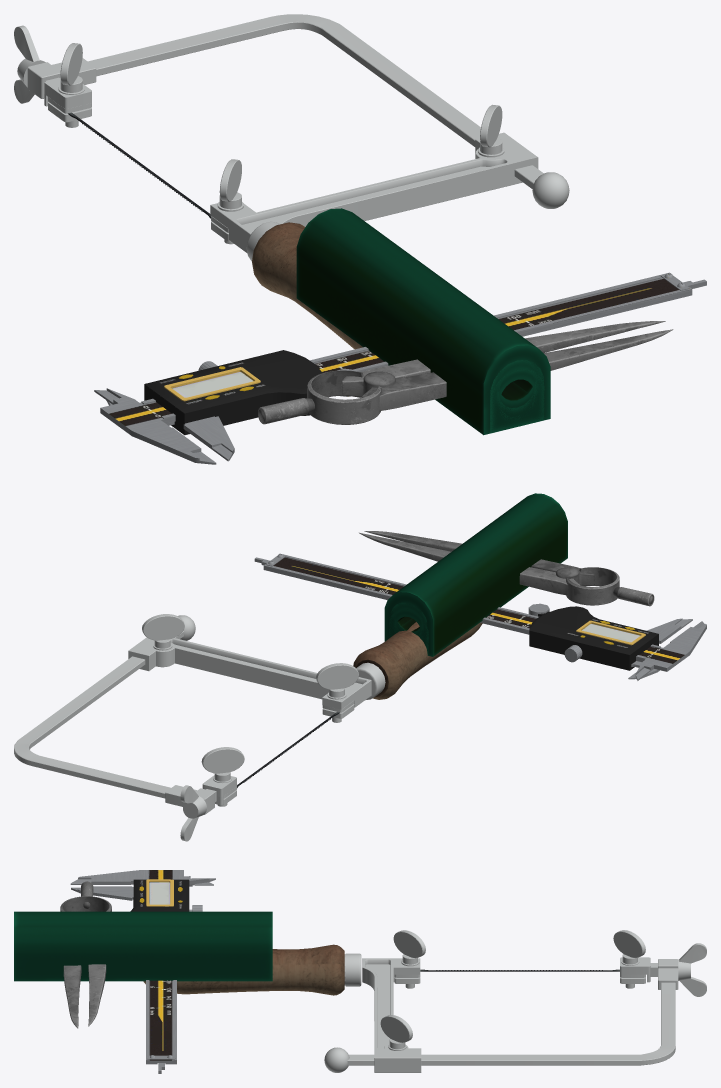
3 renders of one model, top to bottom at view 1: azimuth 30°, elevation 25°; view 2: azimuth 150°, elevation 25°; view 3: azimuth 270°, elevation 25°, orthographic. The views are drawn at different scales.
Visible parts, largest first — view 1: 201_MuBingJuZi, 201_JieZhiLa_T200, 201_YuanGui, YouBiaoKaChi_001, YouBiaoKaChi_002, 201_JieZhiLa_T100, 201_JieZhiLa_T150; view 2: 201_MuBingJuZi, 201_JieZhiLa_T200, YouBiaoKaChi_002, YouBiaoKaChi_001, 201_YuanGui, 201_JieZhiLa_T150; view 3: 201_MuBingJuZi, 201_JieZhiLa_T200, YouBiaoKaChi_001, YouBiaoKaChi_002, 201_YuanGui.
Part boxes in pixels (x1=…): 201_MuBingJuZi: x1=14, y1=14, x2=569, y2=349; 201_JieZhiLa_T200: x1=296, y1=208, x2=550, y2=435; 201_YuanGui: x1=258, y1=321, x2=673, y2=424; YouBiaoKaChi_001: x1=94, y1=272, x2=692, y2=464; YouBiaoKaChi_002: x1=106, y1=279, x2=706, y2=461; 201_JieZhiLa_T100: x1=490, y1=360, x2=543, y2=433; 201_JieZhiLa_T150: x1=490, y1=368, x2=544, y2=433; 201_MuBingJuZi: x1=14, y1=614, x2=482, y2=841; 201_JieZhiLa_T200: x1=384, y1=493, x2=567, y2=656; YouBiaoKaChi_002: x1=254, y1=557, x2=692, y2=679; YouBiaoKaChi_001: x1=263, y1=553, x2=706, y2=680; 201_YuanGui: x1=359, y1=531, x2=654, y2=606; 201_JieZhiLa_T150: x1=389, y1=609, x2=428, y2=655; 201_MuBingJuZi: x1=143, y1=930, x2=706, y2=1072; 201_JieZhiLa_T200: x1=14, y1=911, x2=272, y2=981; YouBiaoKaChi_001: x1=70, y1=870, x2=215, y2=1064; YouBiaoKaChi_002: x1=71, y1=879, x2=213, y2=1073; 201_YuanGui: x1=60, y1=881, x2=111, y2=1028.
Size of the model in its own units: 25.43 by 4.9 by 37.51.
